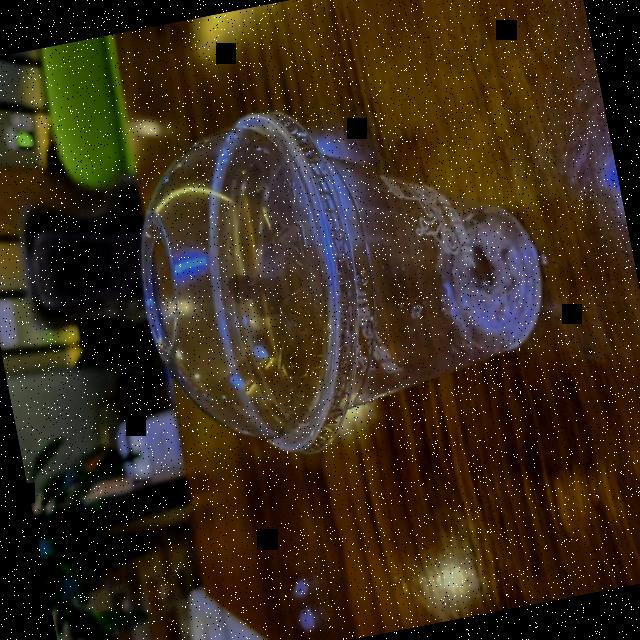plastic_cup_lid: (92, 90, 395, 488)
